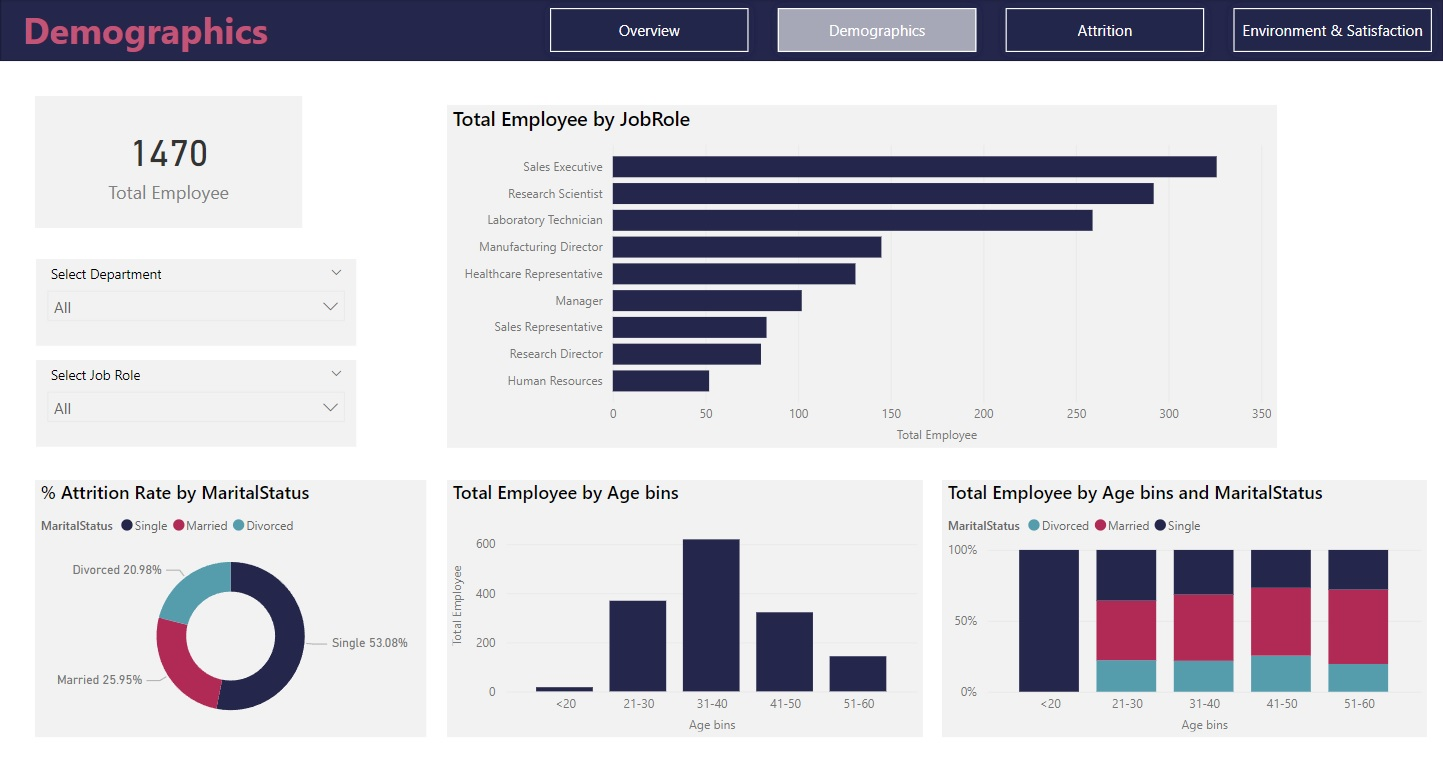

The page's visual inventory and layout, read from the dashboard file:
{"tool":"powerbi","page":{"name":"Demographics","canvas":[1280,720],"ordinal":1},"visuals":[{"type":"donutChart","fields":{"Category":["Attrition_Performance.MaritalStatus"],"Y":["_Measures.Total Employee"]},"box":[31.2,426.7,346.9,228.4],"z":0},{"type":"hundredPercentStackedColumnChart","fields":{"Category":["Attrition_Performance.Age bins"],"Series":["Attrition_Performance.MaritalStatus"],"Y":["_Measures.Total Employee"]},"box":[835,426.7,429.9,228.4],"z":1000},{"type":"card","fields":{"Values":["_Measures.Total Employee"]},"box":[31.2,86.2,237,117.4],"z":2000},{"type":"clusteredColumnChart","fields":{"Category":["Attrition_Performance.Age bins"],"Y":["_Measures.Total Employee"]},"box":[396.5,426.7,422.4,228.4],"z":3000},{"type":"clusteredBarChart","fields":{"Category":["Attrition_Performance.JobRole"],"Y":["_Measures.Total Employee"]},"box":[396.5,93.7,735.9,303.8],"z":4000},{"type":"shape","box":[0,0,1280,55],"z":5000},{"type":"textbox","box":[15.1,0,242.4,58.2],"z":6000},{"type":"pageNavigator","box":[479.5,0,800.5,55],"z":7000},{"type":"slicer","title":"Select Job Role","fields":{"Values":["Attrition_Performance.JobRole"]},"box":[31.5,320.5,283.9,77.3],"z":8000},{"type":"slicer","title":"Select Job Role","fields":{"Values":["Attrition_Performance.Department"]},"box":[31.5,231,283.9,77.3],"z":9000}]}

Visuals, with their boxes on the page's 1280x720 design canvas (x1, y1, x2, y2). These are canvas units, not pixel positions in the 1443x767 screenshot, which may show the page scaled, cropped or inside an application window:
donutChart - Attrition_Performance.MaritalStatus x _Measures.Total Employee: rect(31, 427, 378, 655)
hundredPercentStackedColumnChart - Attrition_Performance.Age bins x Attrition_Performance.MaritalStatus: rect(835, 427, 1265, 655)
card - _Measures.Total Employee: rect(31, 86, 268, 204)
clusteredColumnChart - Attrition_Performance.Age bins x _Measures.Total Employee: rect(396, 427, 819, 655)
clusteredBarChart - Attrition_Performance.JobRole x _Measures.Total Employee: rect(396, 94, 1132, 398)
shape: rect(0, 0, 1280, 55)
textbox: rect(15, 0, 258, 58)
pageNavigator: rect(480, 0, 1280, 55)
"Select Job Role" slicer: rect(32, 320, 315, 398)
"Select Job Role" slicer: rect(32, 231, 315, 308)
